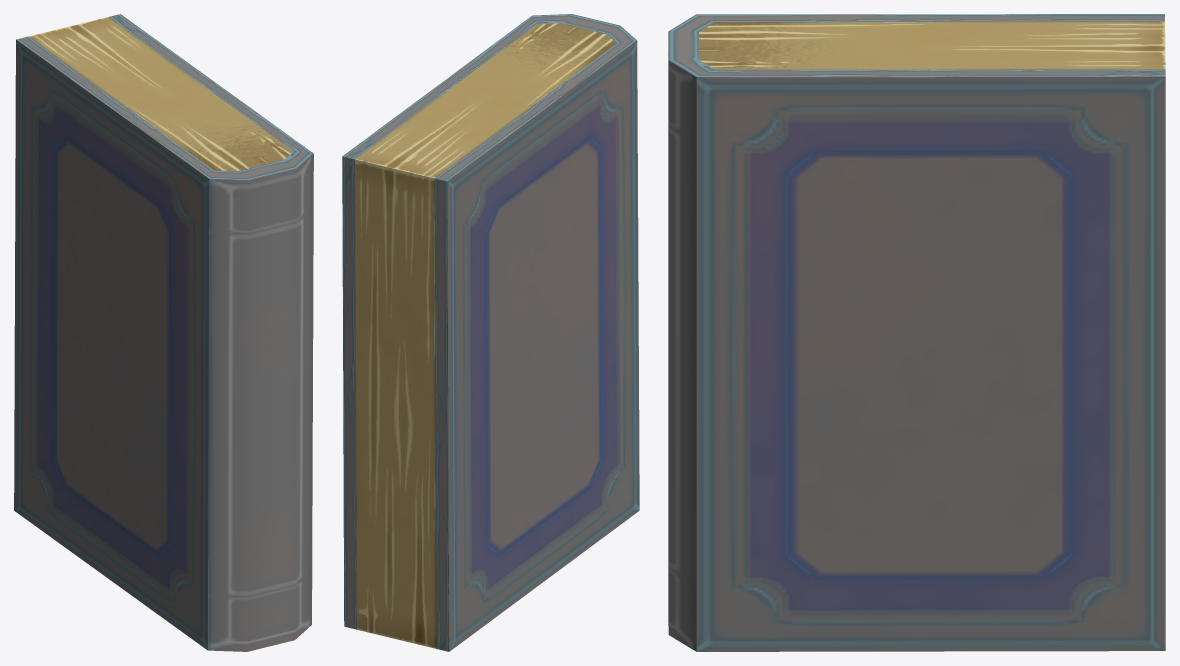
The model's file is Book_Simplified_Single.fbx.
3 views of the same model, side by side, from view 1: azimuth 30°, elevation 25°; view 2: azimuth 150°, elevation 25°; view 3: azimuth 270°, elevation 25° (orthographic). The views are drawn at different scales.
Visible parts, largest first — view 1: Book_Simplified_Single; view 2: Book_Simplified_Single; view 3: Book_Simplified_Single.
Part boxes in pixels (box(x1,y1,x2,y2)): Book_Simplified_Single: box(14, 14, 313, 651); Book_Simplified_Single: box(342, 14, 639, 651); Book_Simplified_Single: box(668, 14, 1165, 651).
Size of the model in its own units: 6.46 by 26.83 by 21.
